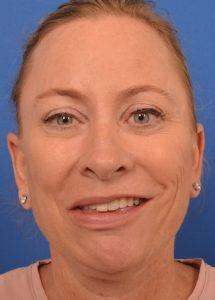strokeEyeWeak: (39, 89, 169, 139)
strokeMouthWeak: (67, 190, 157, 229)
